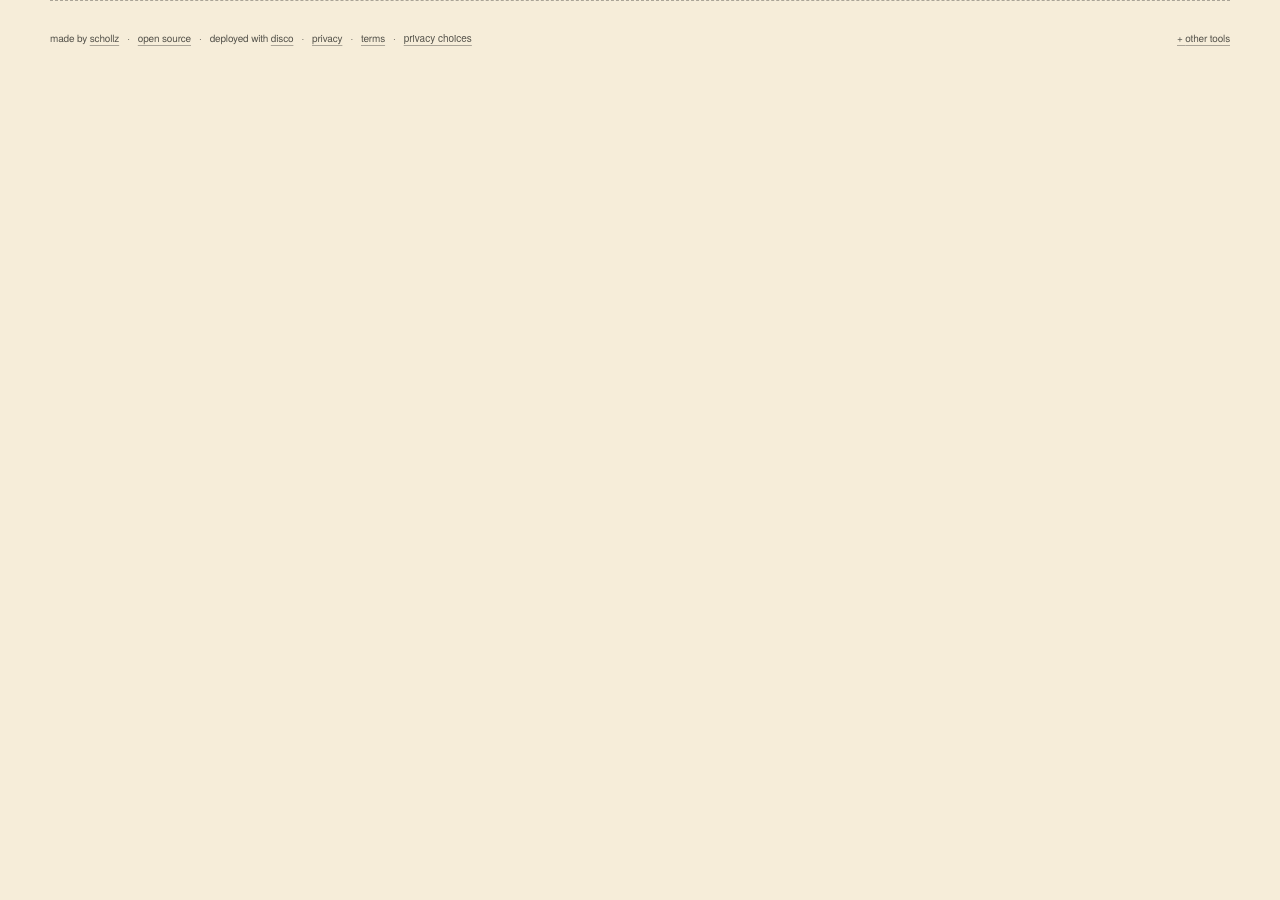
it: privacy notice › can be reopened from the footer after a choice
expect the heading "Cookies and privacy" is not shown: met
Click the button "privacy choices" at (438, 38), box [404,31,472,46]
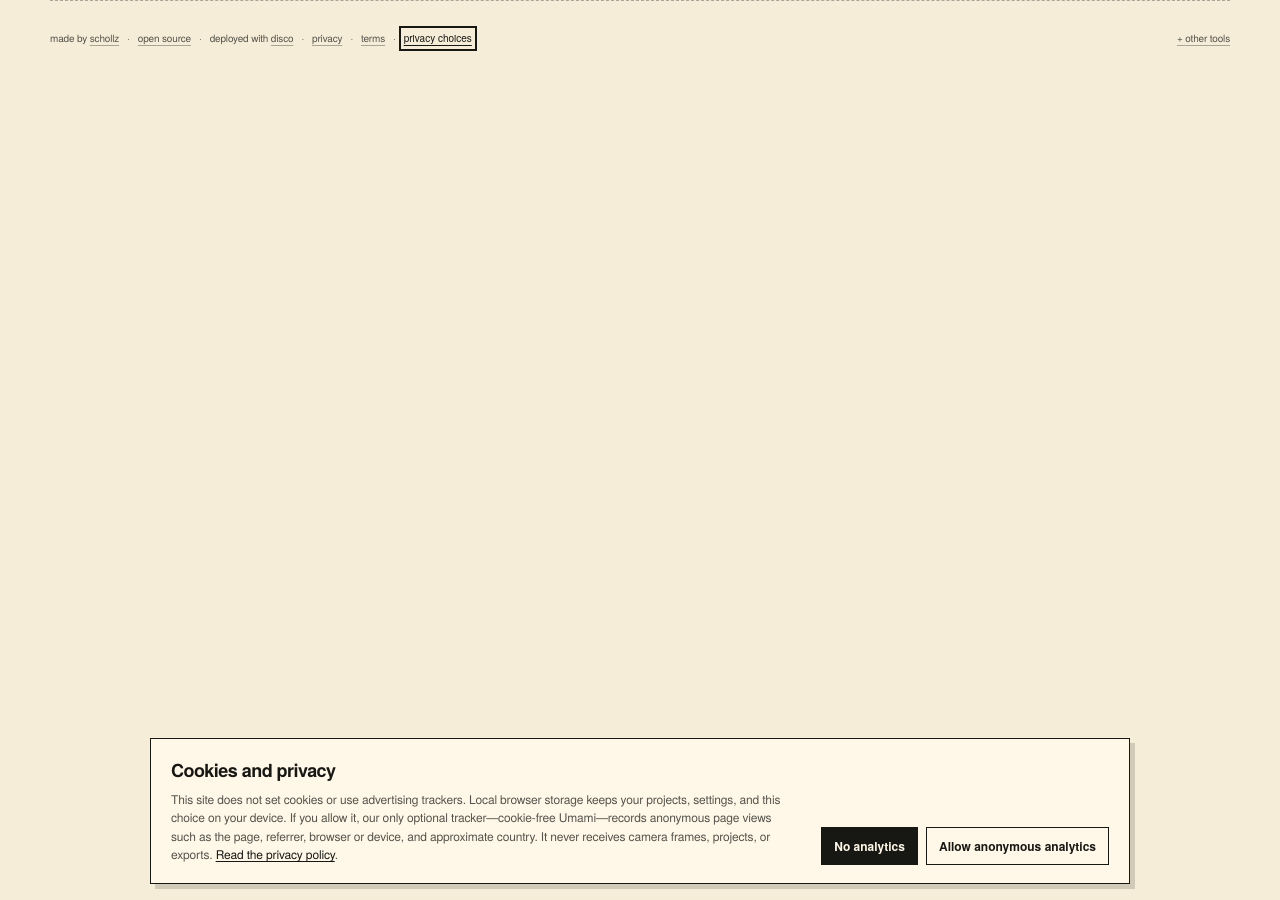
expect the heading "Cookies and privacy" is shown: met, box [171,757,336,783]
